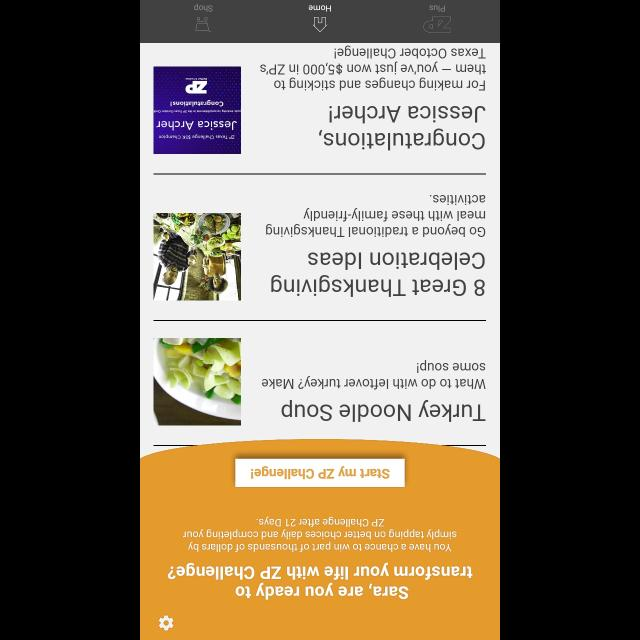icon: (312, 16, 328, 32), (158, 614, 174, 630), (196, 18, 212, 32)
image: (153, 66, 241, 154), (153, 338, 241, 426), (154, 212, 240, 300), (423, 16, 451, 32)
text: (168, 562, 472, 600), (260, 46, 486, 90), (183, 516, 457, 552), (271, 252, 485, 298), (266, 195, 486, 238), (318, 106, 486, 150), (262, 359, 486, 389), (281, 400, 485, 422), (194, 4, 212, 12), (308, 6, 332, 12), (430, 5, 444, 12)
textbutton: (235, 458, 405, 487)
